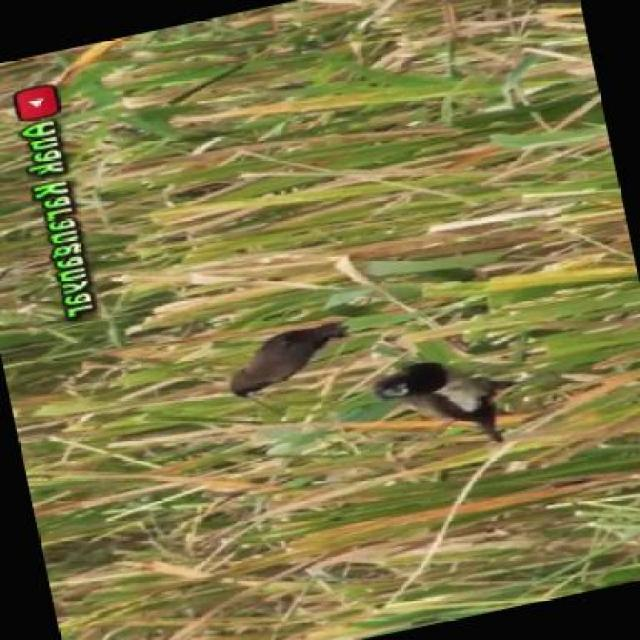Bird: (372, 352, 510, 456), (223, 314, 360, 408)
